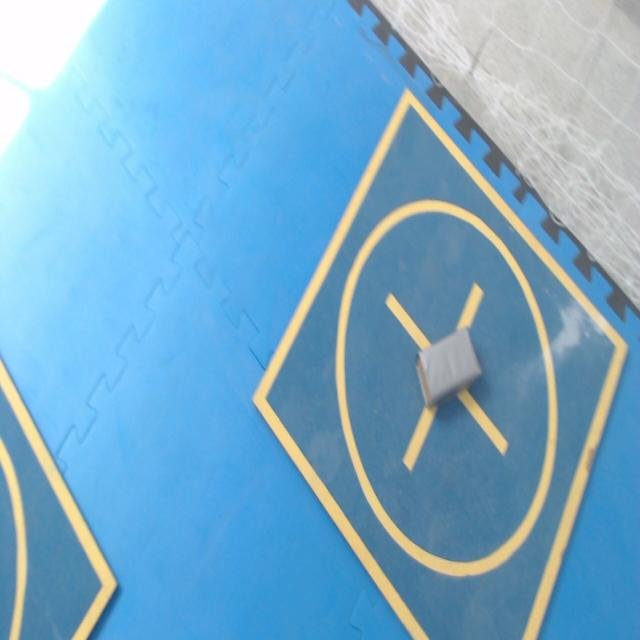lipo: (416, 327, 482, 410)
